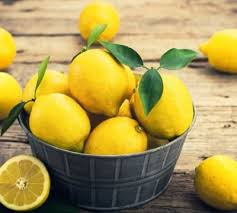Lemon: (73, 107, 154, 179), (59, 40, 130, 116), (28, 92, 96, 167), (127, 65, 188, 145)
